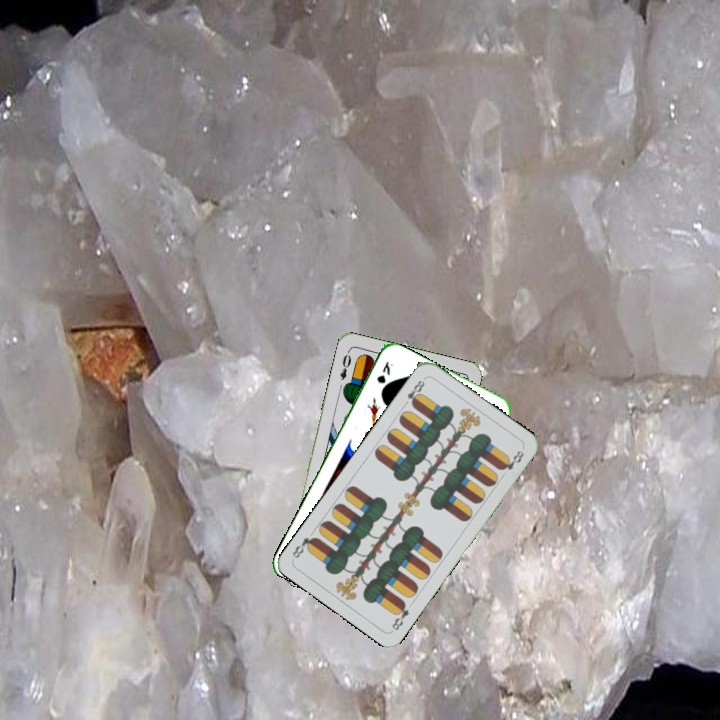E8: (399, 376, 427, 409), (388, 597, 411, 633)
EO: (336, 347, 354, 383)
GK: (373, 357, 396, 387)
